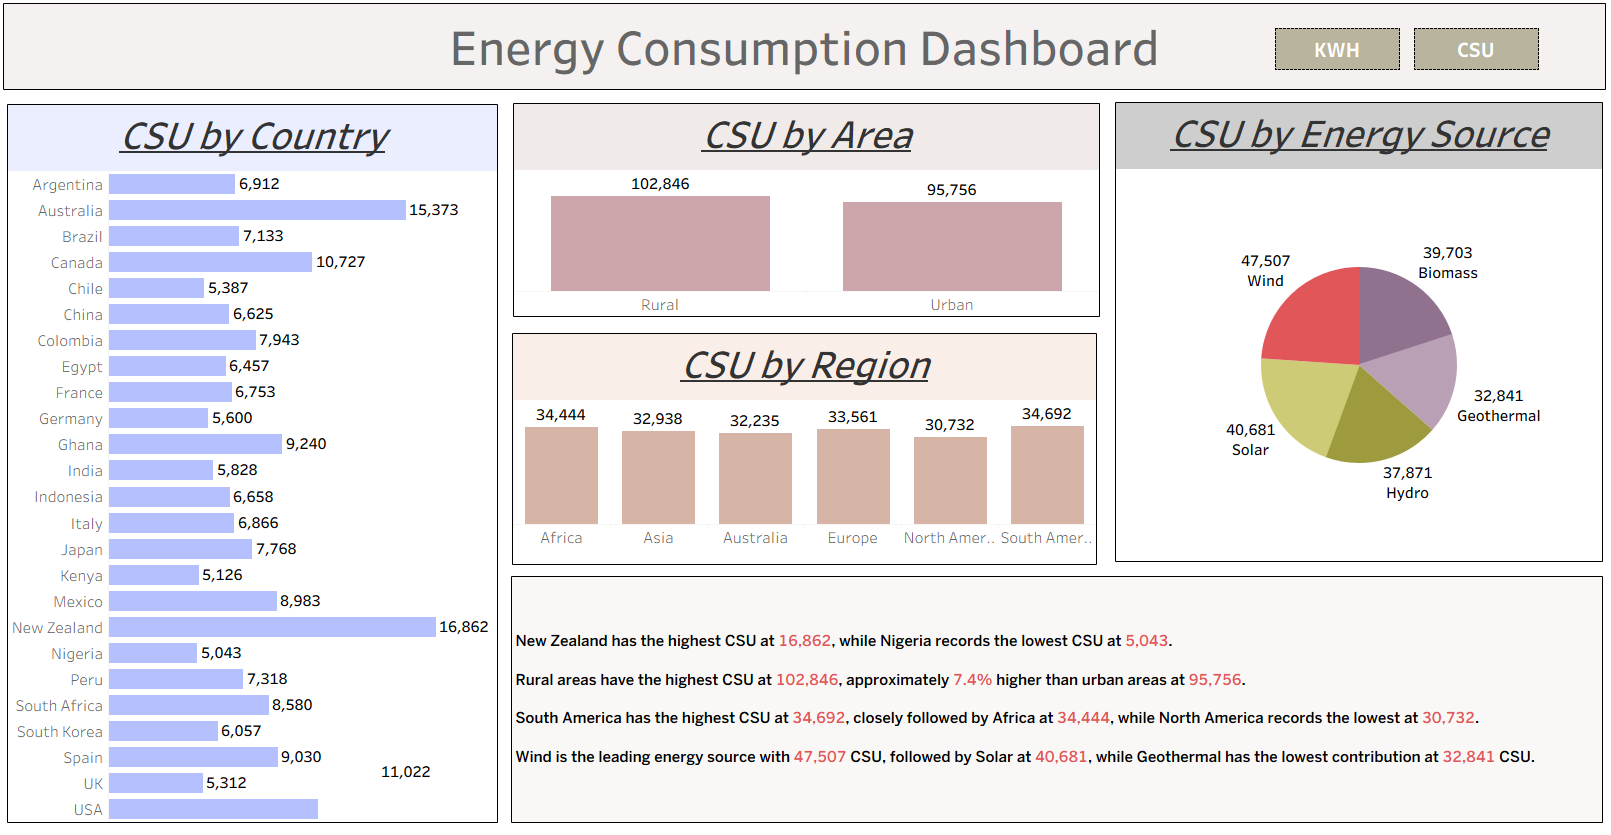

The page's visual inventory and layout, read from the dashboard file:
{"tool":"tableau","page":{"name":"CSU","canvas":[1000,1000],"units":"permille","ordinal":0},"visuals":[{"type":"text","box":[25.9,15.3,967.4,102.2]},{"type":"dashboard-object","box":[793.6,44.6,75.4,49.4]},{"type":"dashboard-object","box":[877.5,44.6,75.4,49.4]},{"type":"worksheet","title":"CSU by Energy Source","mark":"Pie","box":[697,131.6,294.5,540.5]},{"type":"worksheet","title":"CSU by Area","mark":"Automatic","rows":["COST_SAVING_USD"],"cols":["URBAN_RURAL"],"box":[333.7,132.8,354.2,251.5]},{"type":"worksheet","title":"CSU by Country","mark":"Automatic","rows":["COUNTRY"],"cols":["COST_SAVING_USD"],"box":[28.4,134,296.3,844.9]},{"type":"worksheet","title":"CSU by Region","mark":"Automatic","rows":["COST_SAVING_USD"],"cols":["REGION"],"box":[333.1,403.1,353.1,272.6]},{"type":"text","box":[332.5,688.6,659,290.2]}]}

Visuals, with their boxes on the dashboard's canvas, which has no fixed pixel size, in thousandths of its width and height (x1, y1, x2, y2). These are canvas units, not pixel positions in the 1611x835 screenshot, which may show the page scaled, cropped or inside an application window:
text: select_region(26, 15, 993, 118)
dashboard-object: select_region(794, 45, 869, 94)
dashboard-object: select_region(878, 45, 953, 94)
"CSU by Energy Source" worksheet (Pie marks): select_region(697, 132, 992, 672)
"CSU by Area" worksheet: select_region(334, 133, 688, 384)
"CSU by Country" worksheet: select_region(28, 134, 325, 979)
"CSU by Region" worksheet: select_region(333, 403, 686, 676)
text: select_region(332, 689, 992, 979)
